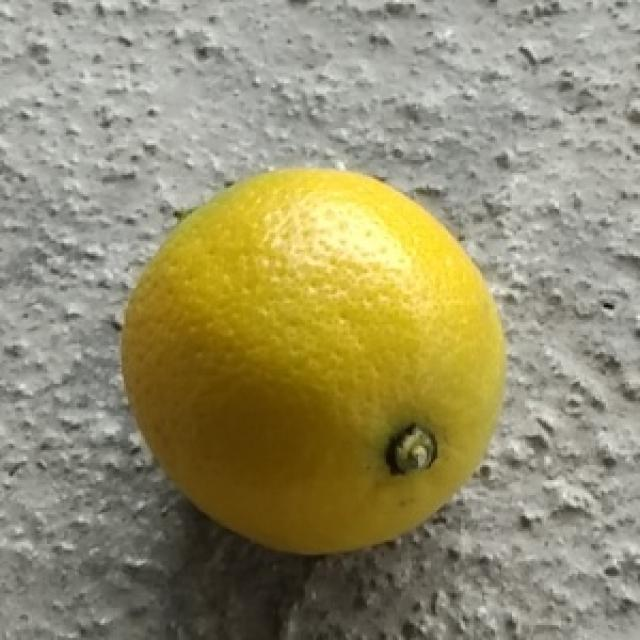Ripe: (117, 162, 512, 558)
